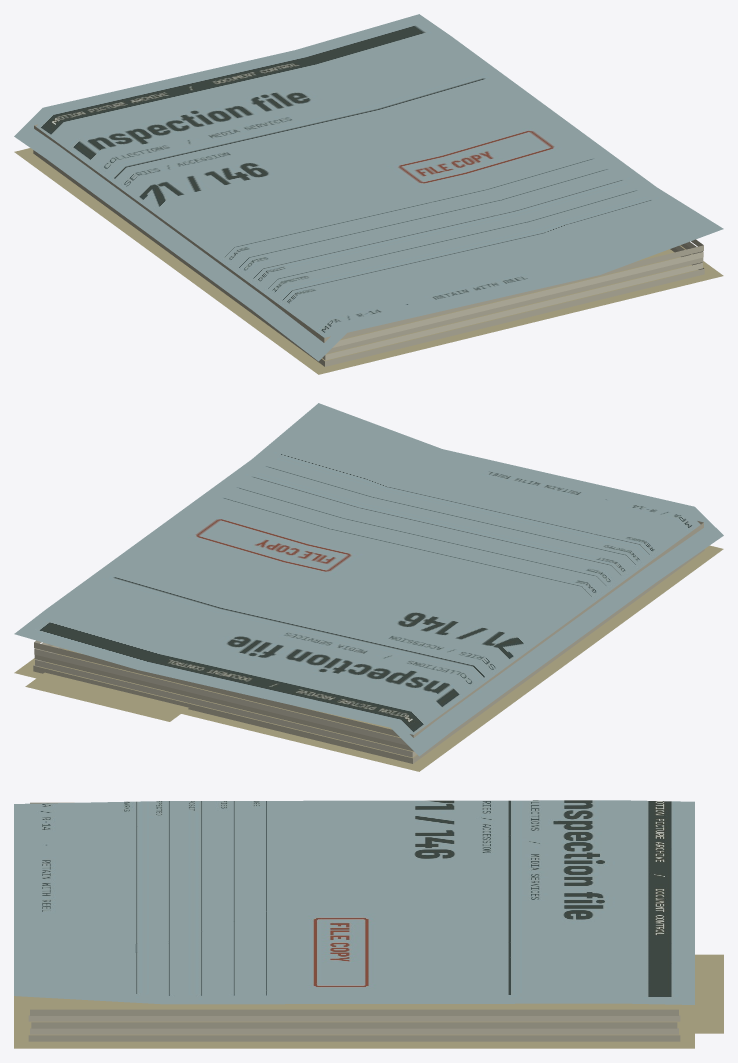
Rendered from review.gltf.
3 views of the same model, one above another, from view 1: azimuth 30°, elevation 25°; view 2: azimuth 150°, elevation 25°; view 3: azimuth 270°, elevation 25° (orthographic). The views are drawn at different scales.
Parts seen in each view (by area): view 1: review; view 2: review; view 3: review.
Part boxes in pixels (x1,y1,x2,y2): review: (14, 14, 723, 374); review: (14, 403, 723, 771); review: (14, 800, 723, 1048).
Size of the model in its own units: 0.252 by 0.0279 by 0.342.
4 materials, 1 textured.
